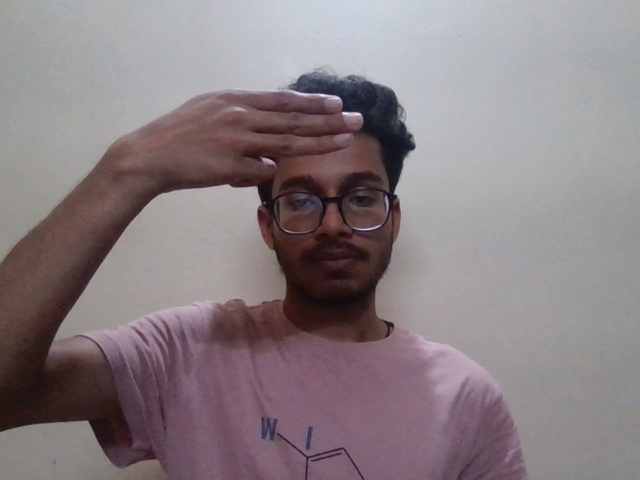wednesday: (90, 81, 378, 217)
